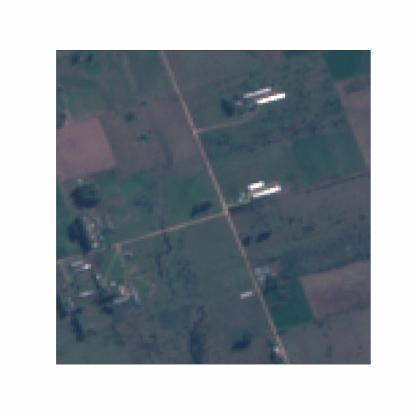silobolsa: (252, 184, 285, 200), (242, 84, 272, 98), (258, 91, 286, 106), (248, 178, 264, 189)
